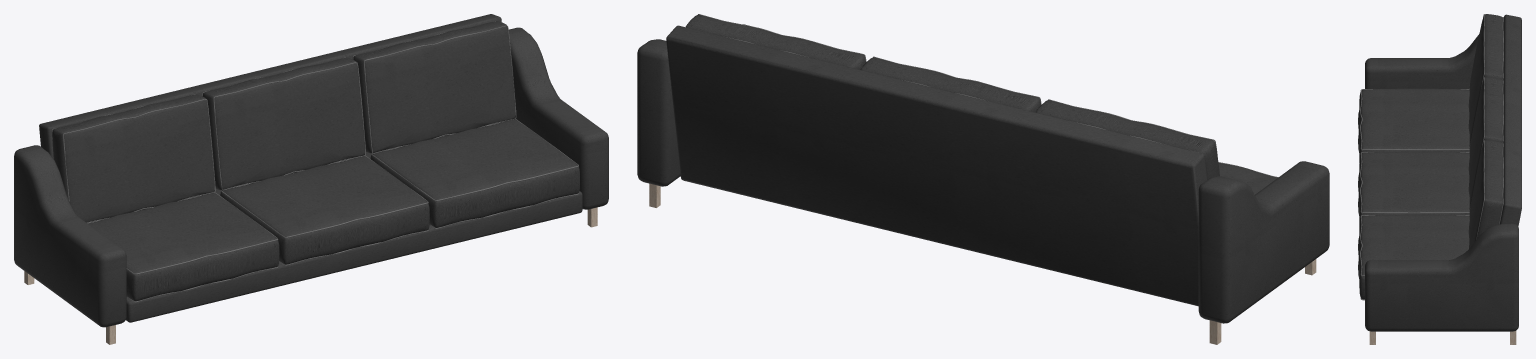
File: sf_9b1e09abe5e3.glb
The picture shows the model from 3 angles, left to right: view 1: azimuth 30°, elevation 25°; view 2: azimuth 150°, elevation 25°; view 3: azimuth 270°, elevation 25°; orthographic projection. The views are drawn at different scales.
Visible parts, largest first — view 1: Object_3, Object_2, Object_4; view 2: Object_3, Object_2, Object_4; view 3: Object_3, Object_2, Object_4.
Boxes of the visible parts, x1=… form: Object_3: x1=14, y1=14, x2=608, y2=327; Object_2: x1=52, y1=21, x2=578, y2=302; Object_4: x1=24, y1=207, x2=597, y2=344; Object_3: x1=637, y1=14, x2=1329, y2=323; Object_2: x1=698, y1=14, x2=1278, y2=177; Object_4: x1=649, y1=183, x2=1316, y2=344; Object_3: x1=1358, y1=14, x2=1521, y2=331; Object_2: x1=1360, y1=14, x2=1503, y2=300; Object_4: x1=1369, y1=331, x2=1516, y2=344.
Size of the model in its own units: 2.75 by 0.8176 by 0.8914.
3 materials, 3 textured.
